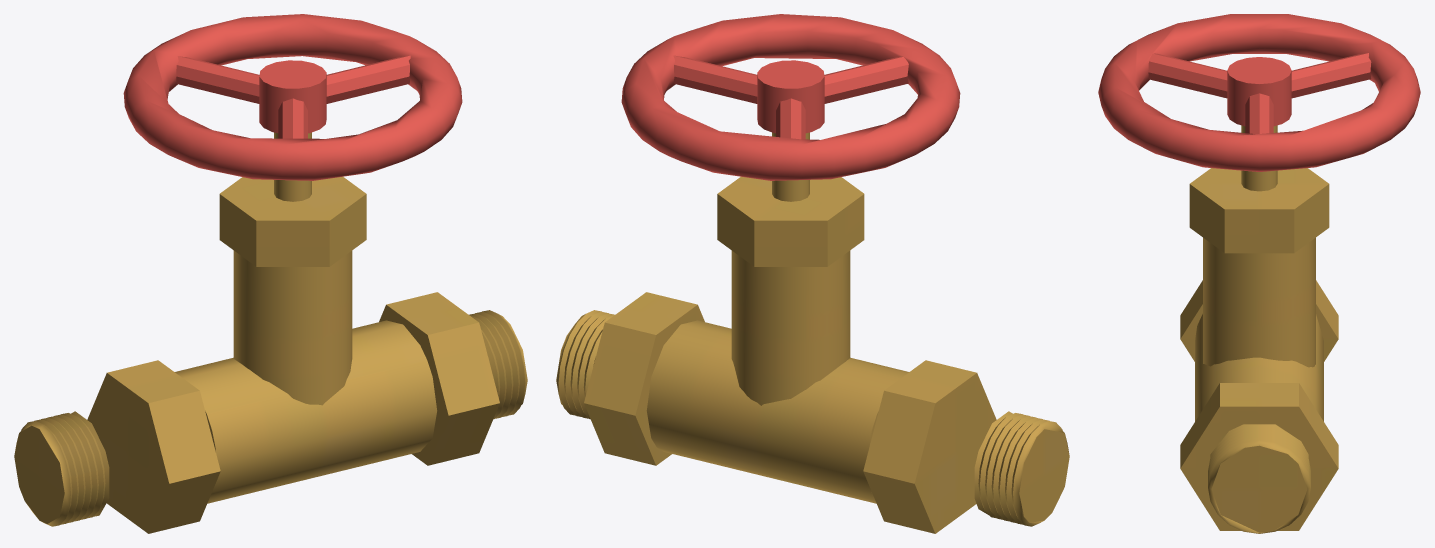
The model's file is HID-REG-001_lod1.glb.
The picture shows the model from 3 angles, left to right: view 1: azimuth 30°, elevation 25°; view 2: azimuth 150°, elevation 25°; view 3: azimuth 270°, elevation 25°; orthographic projection. The views are drawn at different scales.
Parts seen in each view (by area): view 1: HID-REG-001_volante, HID-REG-001_corpo, HID-REG-001_sext1, HID-REG-001_castelo, HID-REG-001_porca, HID-REG-001_sext2, HID-REG-001_r1, HID-REG-001_cubo, HID-REG-001_r2, HID-REG-001_raio0, HID-REG-001_raio1, HID-REG-001_raio2 (+1 smaller); view 2: HID-REG-001_volante, HID-REG-001_corpo, HID-REG-001_sext1, HID-REG-001_castelo, HID-REG-001_porca, HID-REG-001_sext2, HID-REG-001_r1, HID-REG-001_cubo, HID-REG-001_r2, HID-REG-001_raio0, HID-REG-001_raio2, HID-REG-001_raio1 (+1 smaller); view 3: HID-REG-001_volante, HID-REG-001_castelo, HID-REG-001_porca, HID-REG-001_sext2, HID-REG-001_r2, HID-REG-001_corpo, HID-REG-001_cubo, HID-REG-001_raio1, HID-REG-001_raio2, HID-REG-001_sext1, HID-REG-001_raio0, HID-REG-001_haste.
Boxes of the visible parts, <box> form: HID-REG-001_volante: <box>123,14,462,180</box>; HID-REG-001_corpo: <box>175,320,437,503</box>; HID-REG-001_sext1: <box>87,360,220,533</box>; HID-REG-001_castelo: <box>233,250,352,405</box>; HID-REG-001_porca: <box>219,176,366,266</box>; HID-REG-001_sext2: <box>379,292,499,465</box>; HID-REG-001_r1: <box>14,411,109,526</box>; HID-REG-001_cubo: <box>259,60,326,133</box>; HID-REG-001_r2: <box>469,310,527,419</box>; HID-REG-001_raio0: <box>326,55,410,103</box>; HID-REG-001_raio1: <box>176,56,259,103</box>; HID-REG-001_raio2: <box>278,98,307,138</box>; HID-REG-001_volante: <box>621,14,960,180</box>; HID-REG-001_corpo: <box>646,320,908,503</box>; HID-REG-001_sext1: <box>863,360,996,533</box>; HID-REG-001_castelo: <box>731,250,850,405</box>; HID-REG-001_porca: <box>717,176,864,266</box>; HID-REG-001_sext2: <box>584,292,704,465</box>; HID-REG-001_r1: <box>974,411,1069,526</box>; HID-REG-001_cubo: <box>757,60,824,133</box>; HID-REG-001_r2: <box>556,310,614,419</box>; HID-REG-001_raio0: <box>673,55,757,103</box>; HID-REG-001_raio2: <box>824,56,908,103</box>; HID-REG-001_raio1: <box>776,98,805,139</box>; HID-REG-001_volante: <box>1098,14,1420,171</box>; HID-REG-001_castelo: <box>1203,237,1315,367</box>; HID-REG-001_porca: <box>1189,168,1329,253</box>; HID-REG-001_sext2: <box>1180,383,1338,530</box>; HID-REG-001_r2: <box>1208,424,1310,533</box>; HID-REG-001_corpo: <box>1195,314,1323,421</box>; HID-REG-001_cubo: <box>1227,57,1291,126</box>; HID-REG-001_raio1: <box>1291,53,1371,98</box>; HID-REG-001_raio2: <box>1148,53,1227,98</box>; HID-REG-001_sext1: <box>1180,280,1338,361</box>; HID-REG-001_raio0: <box>1245,93,1273,134</box>; HID-REG-001_haste: <box>1241,125,1277,191</box>.
Bounding box in the file's own units: 0.126 × 0.105 × 0.08.
2 materials, 1 textured.
